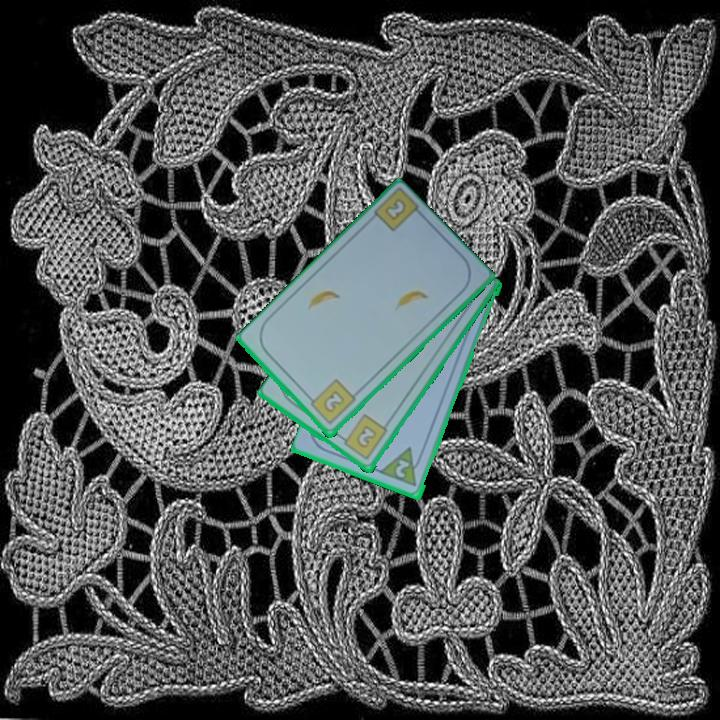2b: (336, 411, 390, 463), (304, 376, 358, 428), (381, 195, 409, 224)
2p: (392, 456, 413, 481)
